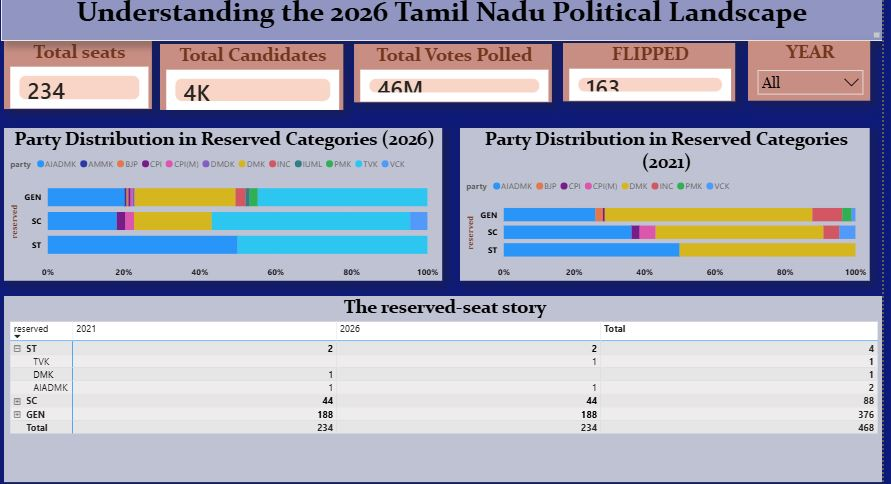

The dashboard page shown, as its layout file describes it:
{"tool":"powerbi","page":{"name":"The reserved-seat story","canvas":[1280,720],"ordinal":2},"visuals":[{"type":"cardVisual","title":"Total seats","fields":{"Data":["Count(constituency_master.ac_number)"]},"box":[14.4,66.2,213.1,97.9],"z":0},{"type":"textbox","title":"Understanding the 2026 Tamil Nadu Political Landscape","box":[10.1,0,1270.1,66.2],"z":1000},{"type":"cardVisual","title":"Total Votes Polled","fields":{"Data":["Sum(tn_2021_results.votes)"]},"box":[518.4,70.6,285.1,83.5],"z":2000},{"type":"cardVisual","title":"Total Candidates","fields":{"Data":["tn_2021_results.Total Candidates"]},"box":[239,70.6,263.5,95],"z":3000},{"type":"pivotTable","title":"The reserved-seat story","fields":{"Columns":["ALL_WINNER.YEAR"],"Values":["CountNonNull(ALL_WINNER.ac_number)"],"Rows":["ALL_WINNER.reserved","ALL_WINNER.party"]},"box":[14.4,433.4,1265.8,267.8],"z":6000},{"type":"hundredPercentStackedBarChart","title":"Party Distribution in Reserved Categories (2026)","fields":{"Category":["ALL_WINNER.reserved"],"Y":["CountNonNull(ALL_WINNER.ac_number)"],"Series":["ALL_WINNER.party"]},"box":[14.4,191.5,630.7,220.3],"z":7000},{"type":"hundredPercentStackedBarChart","title":"Party Distribution in Reserved Categories (2021)","fields":{"Category":["ALL_WINNER.reserved"],"Y":["CountNonNull(ALL_WINNER.ac_number)"],"Series":["ALL_WINNER.party"]},"box":[671,191.5,590.4,220.3],"z":8000},{"type":"slicer","title":"YEAR","fields":{"Values":["ALL_WINNER.YEAR"]},"box":[1085.8,66.2,175.7,86.4],"z":8001},{"type":"cardVisual","title":"FLIPPED","fields":{"Data":["CountNonNull(FLIPSTATUS.ac_number)"]},"box":[819.4,69.1,247.7,83.5],"z":8002}]}

Visuals, with their boxes in screenshot pixels (x1, y1, x2, y2):
"Total seats" cardVisual: pyautogui.locateOnScreen(5, 41, 152, 108)
"Understanding the 2026 Tamil Nadu Political Landscape" textbox: pyautogui.locateOnScreen(2, 0, 877, 41)
"Total Votes Polled" cardVisual: pyautogui.locateOnScreen(352, 44, 549, 101)
"Total Candidates" cardVisual: pyautogui.locateOnScreen(160, 44, 341, 109)
"The reserved-seat story" pivotTable: pyautogui.locateOnScreen(5, 294, 877, 478)
"Party Distribution in Reserved Categories (2026)" hundredPercentStackedBarChart: pyautogui.locateOnScreen(5, 127, 440, 279)
"Party Distribution in Reserved Categories (2021)" hundredPercentStackedBarChart: pyautogui.locateOnScreen(457, 127, 864, 279)
"YEAR" slicer: pyautogui.locateOnScreen(743, 41, 864, 100)
"FLIPPED" cardVisual: pyautogui.locateOnScreen(560, 43, 730, 100)
